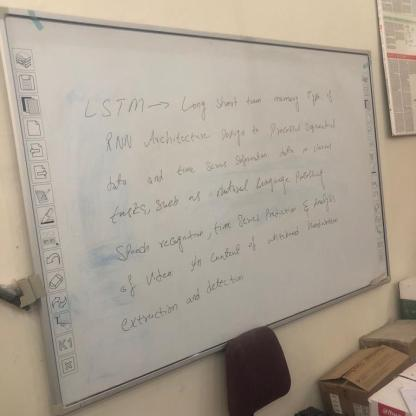Handwritten text: (112, 202, 349, 303), (107, 178, 343, 271), (97, 150, 336, 237), (96, 120, 339, 199), (107, 246, 260, 344), (78, 75, 351, 126), (96, 107, 346, 158)
